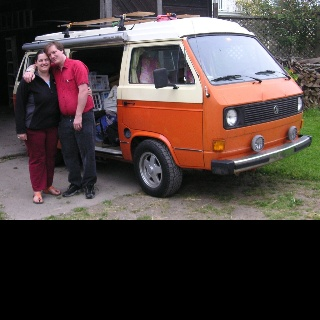without_mask: (36, 53, 50, 72), (47, 45, 61, 64)
